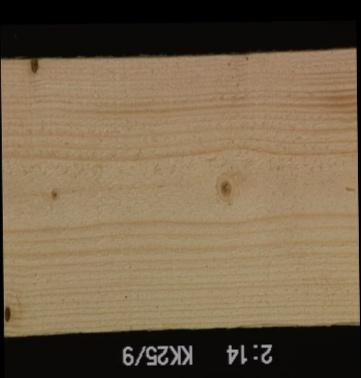dry_knot: (2, 304, 13, 326)
edge_knot: (27, 58, 39, 76)
small_knot: (46, 184, 60, 202)
sound_knot: (213, 174, 237, 203)
wave: (217, 319, 358, 327)
